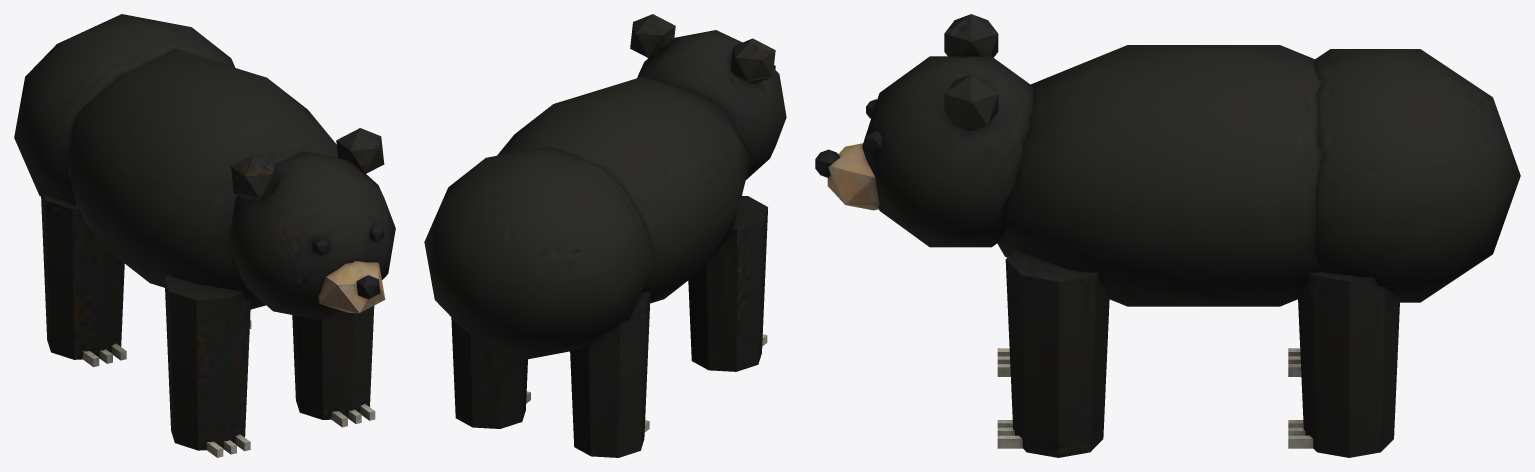
The model's file is oso_negro.glb.
3 views of the same model, side by side, from view 1: azimuth 30°, elevation 25°; view 2: azimuth 150°, elevation 25°; view 3: azimuth 270°, elevation 25° (orthographic). The views are drawn at different scales.
Visible parts, largest first — view 1: oso_negro; view 2: oso_negro; view 3: oso_negro.
Boxes of the visible parts, x1,y1,x2,y2 form: oso_negro: (14, 14, 395, 457); oso_negro: (424, 14, 786, 457); oso_negro: (815, 14, 1520, 457).
Size of the model in its own units: 0.7806 by 1.08 by 1.92.
1 material, 1 textured.
